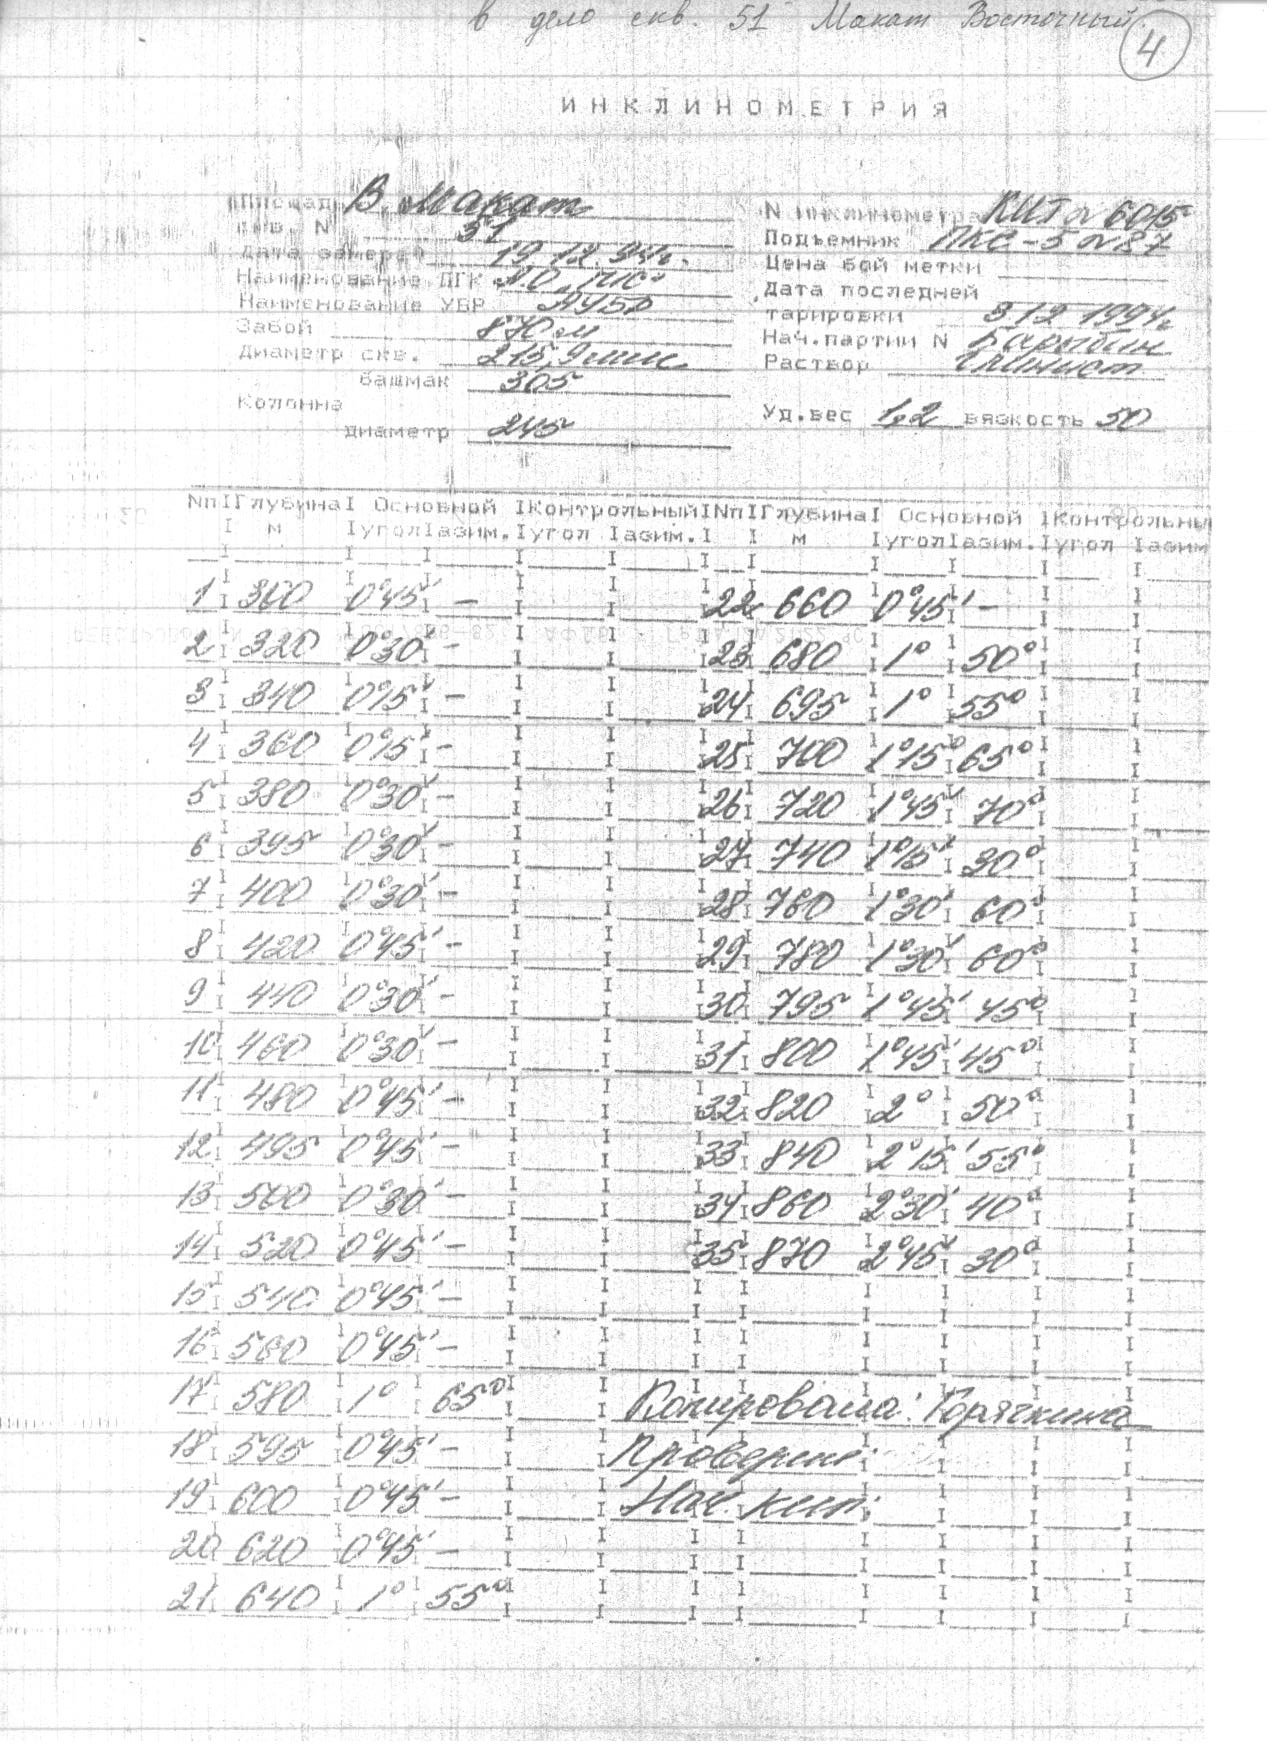Borderless: (135, 483, 1214, 1644)
